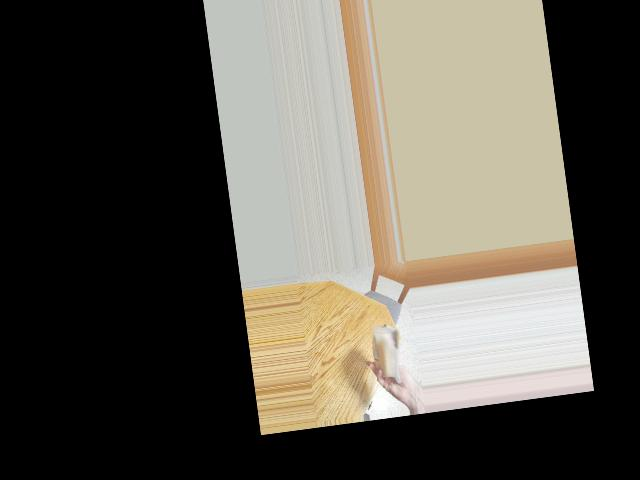cheese: (363, 324, 408, 381)
